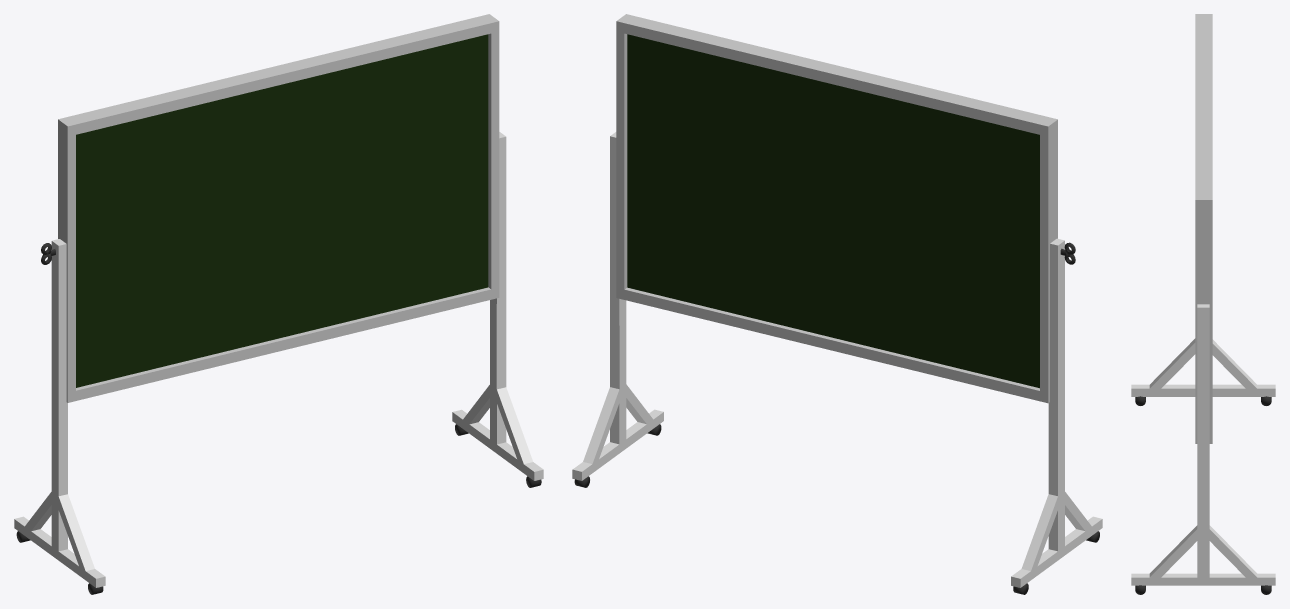
The model's file is ChalkBoard.fbx.
The picture shows the model from 3 angles, left to right: view 1: azimuth 30°, elevation 25°; view 2: azimuth 150°, elevation 25°; view 3: azimuth 270°, elevation 25°; orthographic projection. The views are drawn at different scales.
Parts seen in each view (by area): view 1: ChalkBoard, Chalk_Leg_L, Chalk_Leg_R; view 2: ChalkBoard, Chalk_Leg_L, Chalk_Leg_R; view 3: Chalk_Leg_R, ChalkBoard, Chalk_Leg_L.
Boxes of the visible parts, bbox=[...] form: ChalkBoard: bbox=[58, 14, 499, 402]; Chalk_Leg_L: bbox=[14, 239, 105, 594]; Chalk_Leg_R: bbox=[452, 132, 543, 487]; ChalkBoard: bbox=[616, 14, 1057, 403]; Chalk_Leg_L: bbox=[1011, 238, 1102, 594]; Chalk_Leg_R: bbox=[572, 132, 663, 487]; Chalk_Leg_R: bbox=[1131, 304, 1275, 594]; ChalkBoard: bbox=[1195, 14, 1212, 443]; Chalk_Leg_L: bbox=[1131, 338, 1275, 405].
Size of the model in its own units: 455 by 417 by 140.
